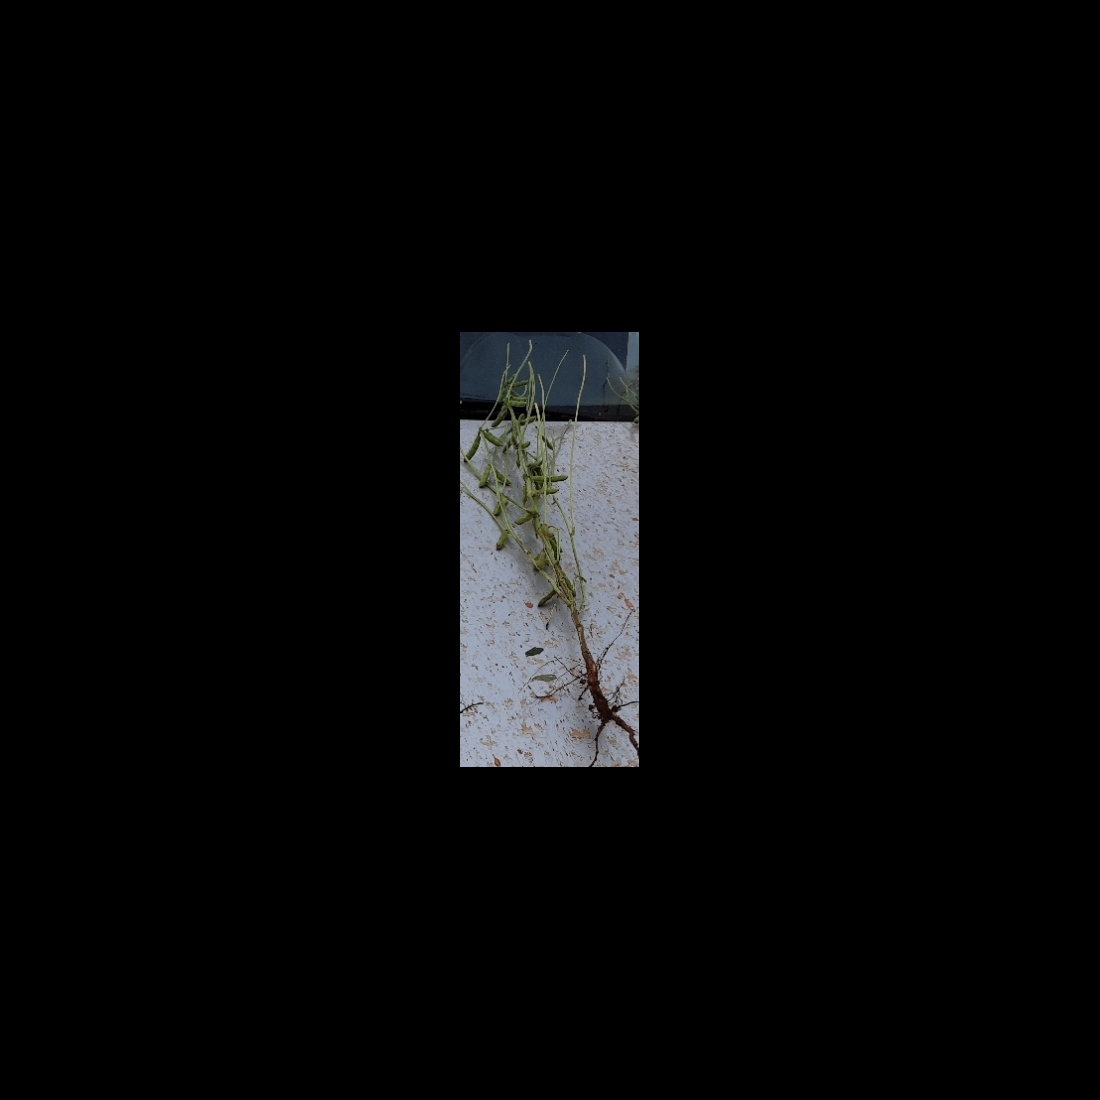pod: (533, 587, 562, 610), (463, 433, 482, 466), (479, 427, 505, 449), (477, 461, 492, 492), (495, 530, 508, 552), (505, 400, 528, 408)
soy: (460, 345, 637, 745)
